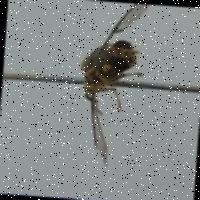Oriental-fruit-fly: (63, 0, 159, 171)
